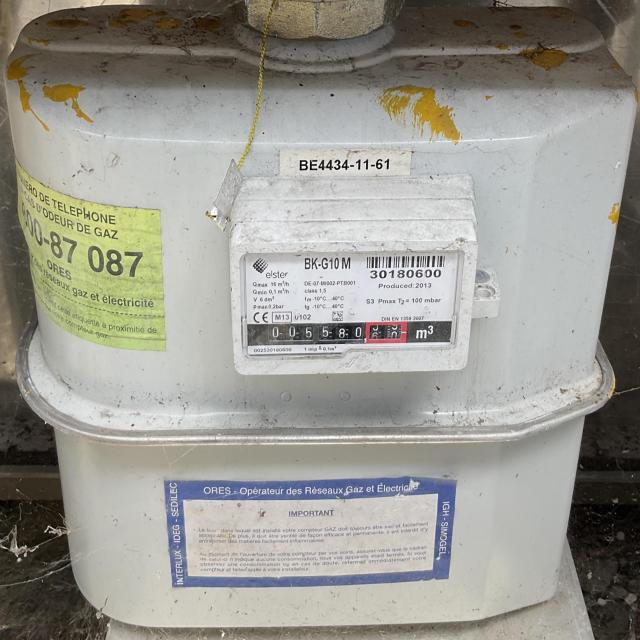gaz_meter: (243, 252, 458, 349)
indication: (268, 322, 403, 341)
